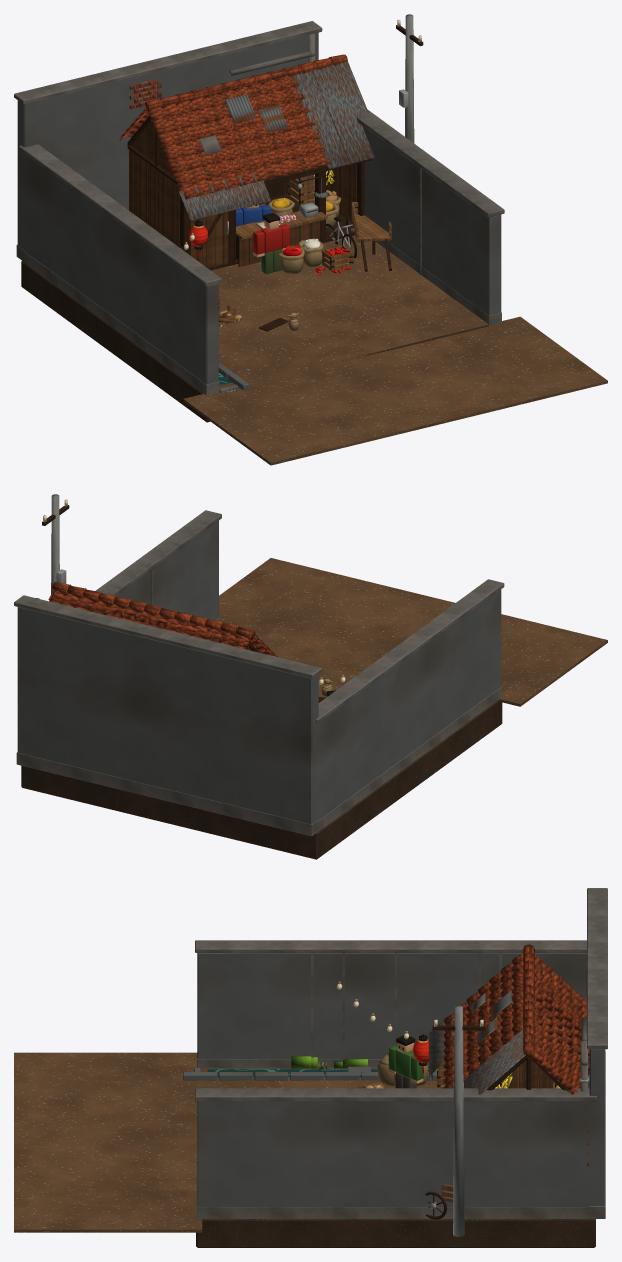
File: tengkulak_gelap.fbx
The picture shows the model from 3 angles, top to bottom: view 1: azimuth 30°, elevation 25°; view 2: azimuth 150°, elevation 25°; view 3: azimuth 270°, elevation 25°; orthographic projection. The views are drawn at different scales.
Visible parts, largest first — view 1: Alley_Floor, G_Ground, G_WallWest, G_WallNorth, G_WallEast, G_Slab, G_WallNorth_cap, G_WallWest_cap, G_WallEast_cap, G_WallWest_grime, G_TileF5, G_TileF4 (+17 smaller); view 2: G_WallNorth, Alley_Floor, G_WallWest, G_Slab, G_WallEast, G_WallNorth_cap, G_WallNorth_grime, G_WallWest_cap, G_WallEast_cap, G_TileB0, G_Ground, G_WallWest_grime (+1 smaller); view 3: G_WallEast, Alley_Floor, G_WallWest, G_Slab, G_WallEast_cap, G_WallWest_cap, G_WallEast_grime, G_WallNorth_cap, G_Pole, G_WallNorth, G_Ground, G_WallWest_grime (+17 smaller).
Boxes of the visible parts, <box> form: Alley_Floor: <box>183,316,607,465</box>; G_Ground: <box>211,235,488,387</box>; G_WallWest: <box>22,152,218,384</box>; G_WallNorth: <box>17,32,318,249</box>; G_WallEast: <box>362,125,501,315</box>; G_Slab: <box>21,261,488,422</box>; G_WallNorth_cap: <box>14,21,322,104</box>; G_WallWest_cap: <box>19,144,221,286</box>; G_WallEast_cap: <box>356,109,504,217</box>; G_WallWest_grime: <box>24,251,219,395</box>; G_TileF5: <box>171,139,325,187</box>; G_TileF4: <box>166,126,320,173</box>; G_WallNorth: <box>17,607,318,823</box>; Alley_Floor: <box>219,558,607,706</box>; G_WallWest: <box>317,589,501,819</box>; G_Slab: <box>21,699,502,859</box>; G_WallEast: <box>116,521,218,620</box>; G_WallNorth_cap: <box>14,595,322,678</box>; G_WallNorth_grime: <box>16,752,319,836</box>; G_WallWest_cap: <box>316,579,504,723</box>; G_WallEast_cap: <box>95,510,221,595</box>; G_TileB0: <box>48,590,251,648</box>; G_Ground: <box>257,635,372,697</box>; G_WallWest_grime: <box>319,686,501,830</box>; G_WallEast: <box>197,1101,593,1206</box>; Alley_Floor: <box>14,1052,202,1232</box>; G_WallWest: <box>197,953,586,1058</box>; G_Slab: <box>196,1219,595,1247</box>; G_WallEast_cap: <box>195,1088,596,1101</box>; G_WallWest_cap: <box>195,940,586,952</box>; G_WallEast_grime: <box>197,1200,593,1218</box>; G_WallNorth_cap: <box>587,888,607,1049</box>; G_Pole: <box>453,1005,464,1236</box>; G_WallNorth: <box>589,1049,605,1205</box>; G_Ground: <box>197,1068,548,1088</box>; G_WallWest_grime: <box>197,1052,538,1068</box>.
Size of the model in its own units: 41.52 by 27.05 by 56.75.
13 materials, 13 textured.
